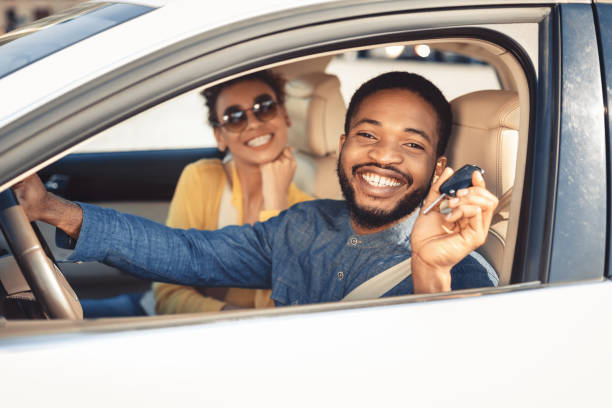without mask: (337, 84, 452, 226), (210, 78, 295, 167)
